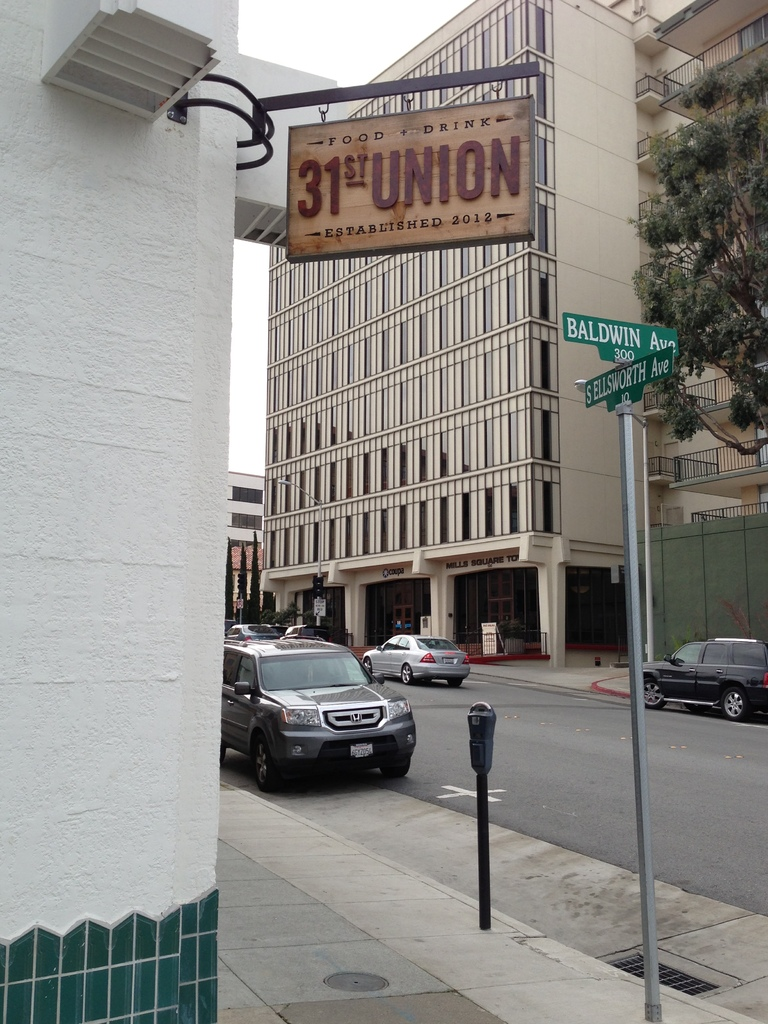cars: (219, 632, 414, 795), (637, 631, 767, 721), (361, 632, 472, 686), (223, 623, 280, 640), (278, 623, 328, 640)
